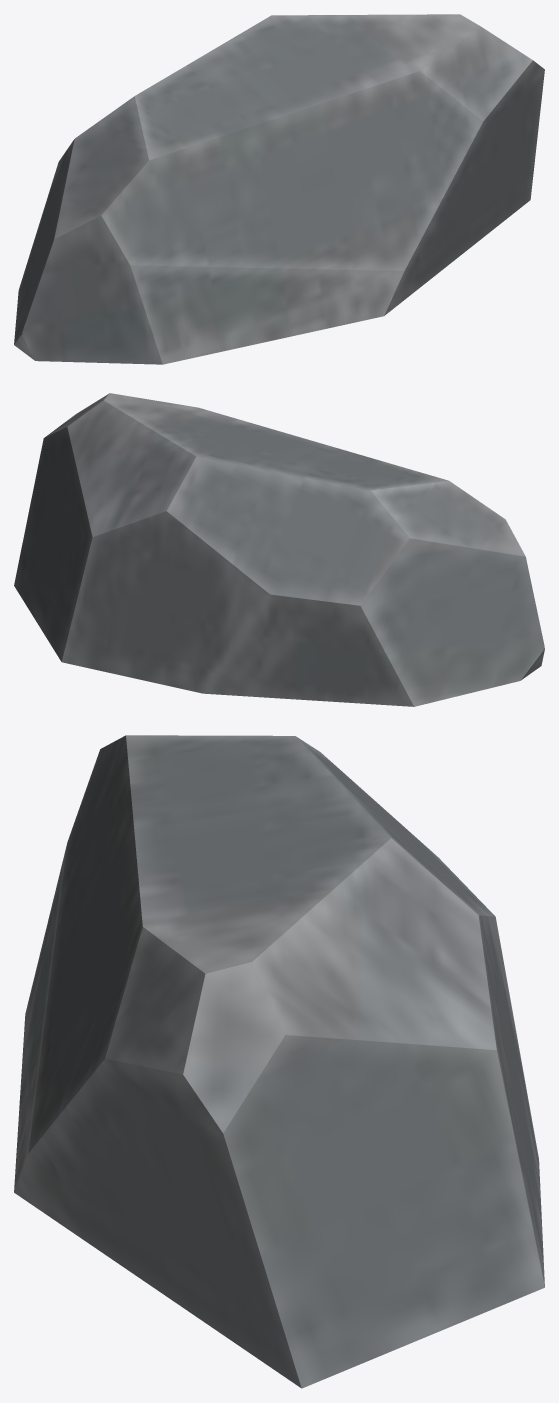
File: Rock_3.fbx
3 renders of one model, top to bottom at view 1: azimuth 30°, elevation 25°; view 2: azimuth 150°, elevation 25°; view 3: azimuth 270°, elevation 25°, orthographic. The views are drawn at different scales.
Visible parts, largest first — view 1: defaultMaterial.008; view 2: defaultMaterial.008; view 3: defaultMaterial.008.
Boxes of the visible parts, left/top/right/bottom form: defaultMaterial.008: left=14, top=14, right=544, bottom=364; defaultMaterial.008: left=14, top=393, right=544, bottom=706; defaultMaterial.008: left=14, top=735, right=544, bottom=1388.
Bounding box in the file's own units: 25.5 × 9.8 × 12.9.
